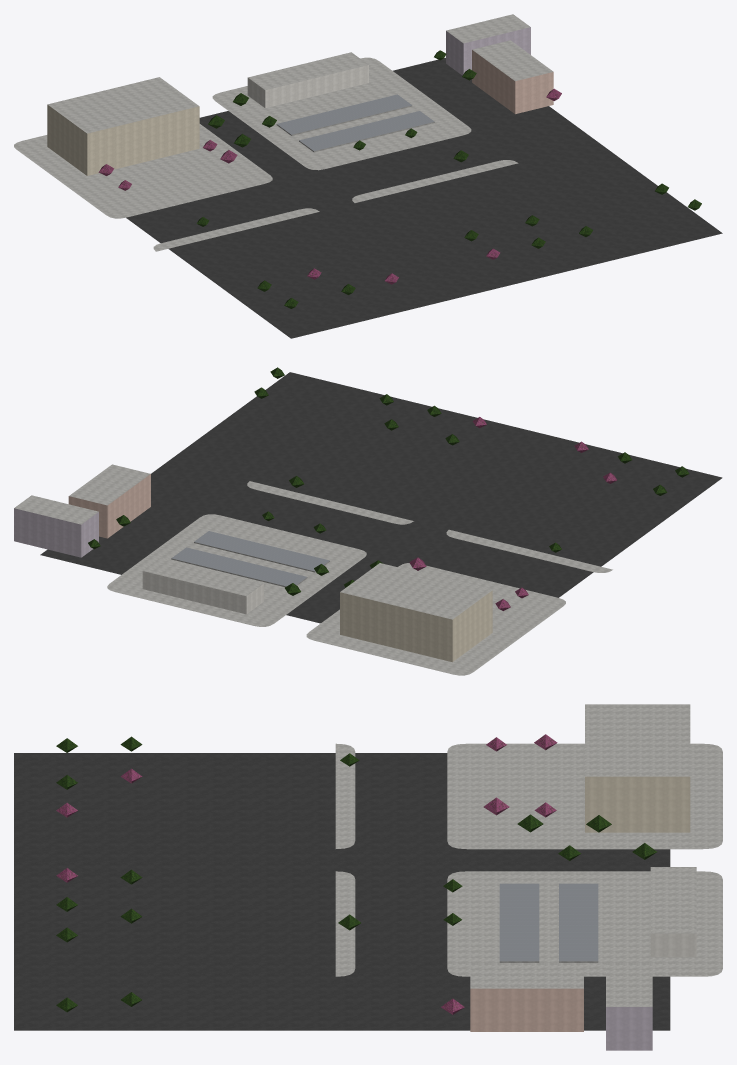
The model's file is cidade_S04_05_lod.gltf.
The picture shows the model from 3 angles, top to bottom: view 1: azimuth 30°, elevation 25°; view 2: azimuth 150°, elevation 25°; view 3: azimuth 270°, elevation 25°; orthographic projection. The views are drawn at different scales.
Visible parts, largest first — view 1: S04_05_Chao_LOD2, S04_05_Edificios_LOD1, S04_05_Vegetacao_LOD2; view 2: S04_05_Chao_LOD2, S04_05_Edificios_LOD1, S04_05_Vegetacao_LOD2; view 3: S04_05_Chao_LOD2, S04_05_Edificios_LOD1, S04_05_Vegetacao_LOD2.
Boxes of the visible parts, x1,y1,x2,y2 form: S04_05_Chao_LOD2: (14, 57, 722, 338); S04_05_Edificios_LOD1: (47, 14, 553, 175); S04_05_Vegetacao_LOD2: (98, 50, 701, 308); S04_05_Chao_LOD2: (40, 372, 722, 675); S04_05_Edificios_LOD1: (14, 464, 492, 662); S04_05_Vegetacao_LOD2: (88, 367, 689, 610); S04_05_Chao_LOD2: (14, 743, 722, 1030); S04_05_Edificios_LOD1: (470, 704, 696, 1050); S04_05_Vegetacao_LOD2: (56, 734, 656, 1014).
Bounding box in the file's own units: 111 × 9.57 × 108.
Materials: 9 (9 with a texture image).
